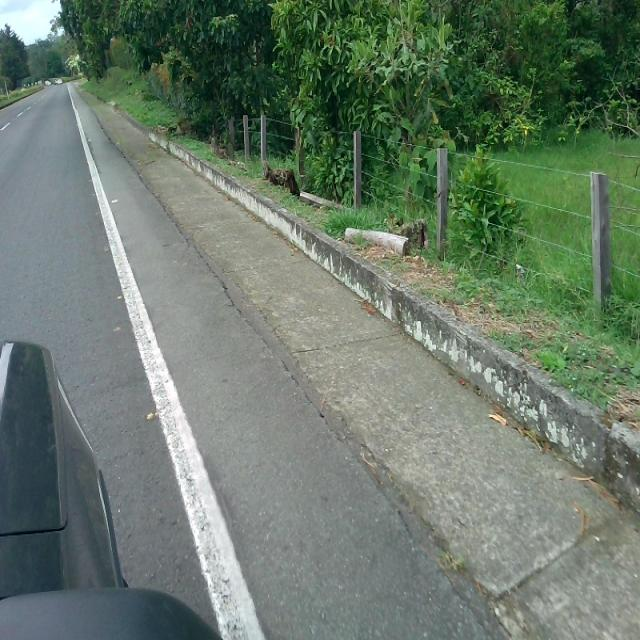DITCH: (66, 81, 638, 638)
